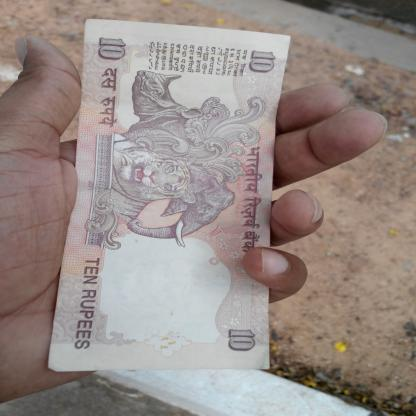Old10Back: (47, 20, 291, 372)
